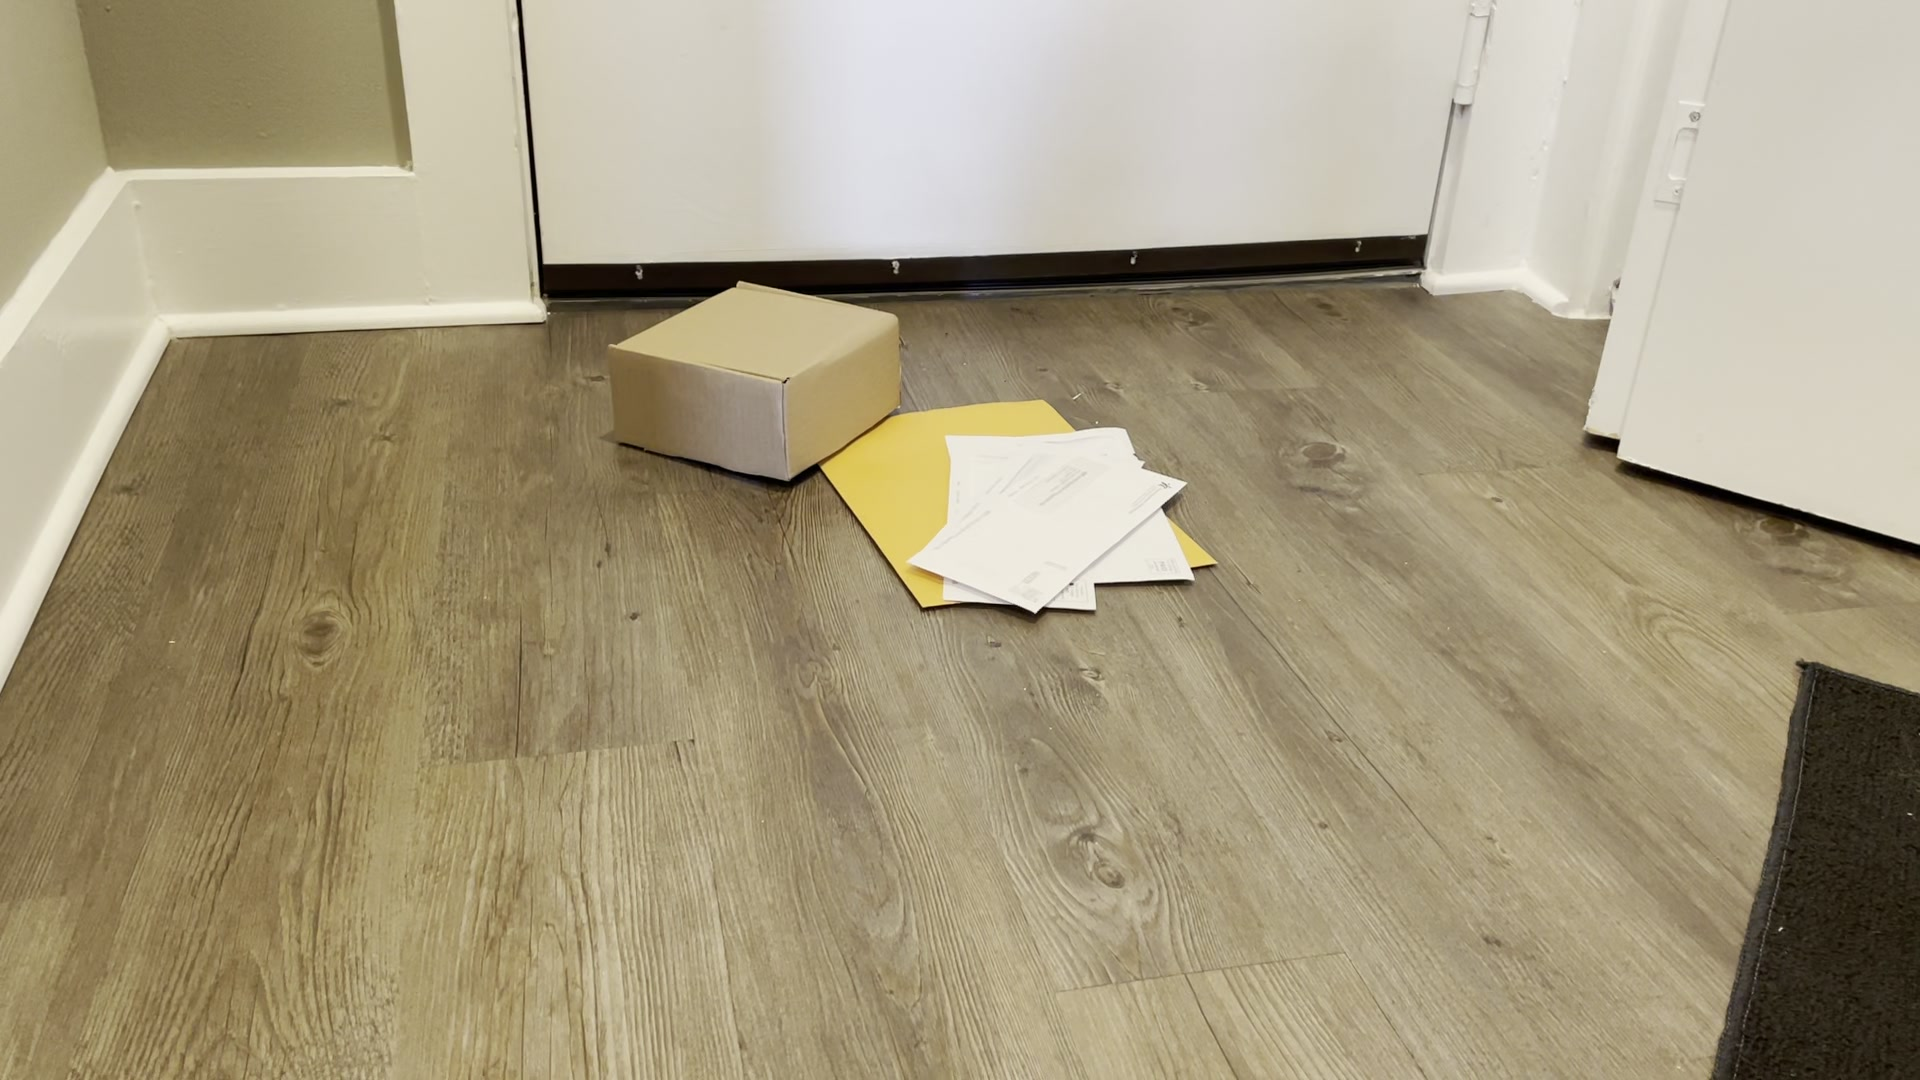box: (596, 270, 920, 491)
envelope: (819, 380, 1222, 620)
